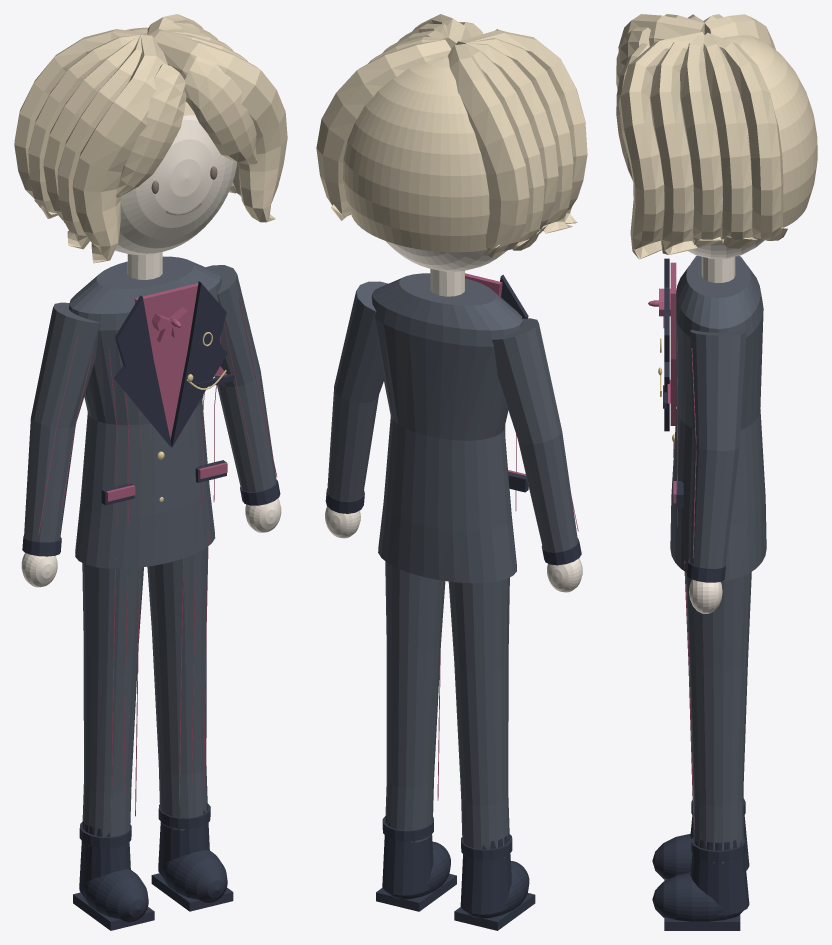
File: 07_host.glb
3 views of the same model, side by side, from view 1: azimuth 30°, elevation 25°; view 2: azimuth 150°, elevation 25°; view 3: azimuth 270°, elevation 25° (orthographic).
Parts seen in each view (by area): view 1: charcoal, ash, satblack, skin, wine; view 2: charcoal, ash, satblack, skin, wine; view 3: ash, charcoal, satblack, wine, skin.
Part boxes in pixels (x1,y1,x2,y2): charcoal: [24, 256, 276, 848]; ash: [14, 14, 287, 263]; satblack: [22, 281, 280, 930]; skin: [21, 115, 281, 587]; wine: [38, 283, 277, 822]; charcoal: [327, 273, 577, 858]; ash: [316, 14, 587, 257]; satblack: [325, 274, 581, 930]; skin: [325, 241, 582, 592]; wine: [437, 273, 578, 800]; ash: [616, 14, 817, 259]; charcoal: [670, 255, 766, 863]; satblack: [652, 258, 749, 930]; wine: [648, 262, 696, 828]; skin: [688, 197, 764, 613].
Size of the model in its own units: 0.546 by 1.79 by 0.3716.
